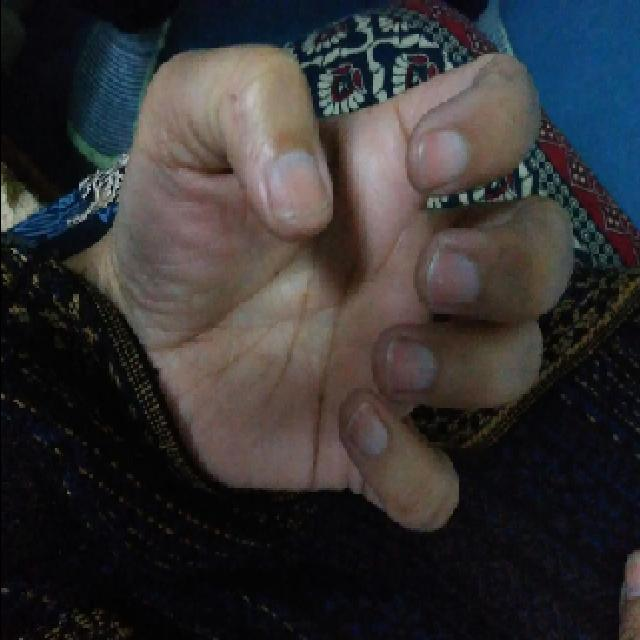Nail: (265, 150, 326, 224), (418, 130, 468, 189), (426, 250, 479, 302), (385, 341, 438, 391), (347, 401, 388, 455)
